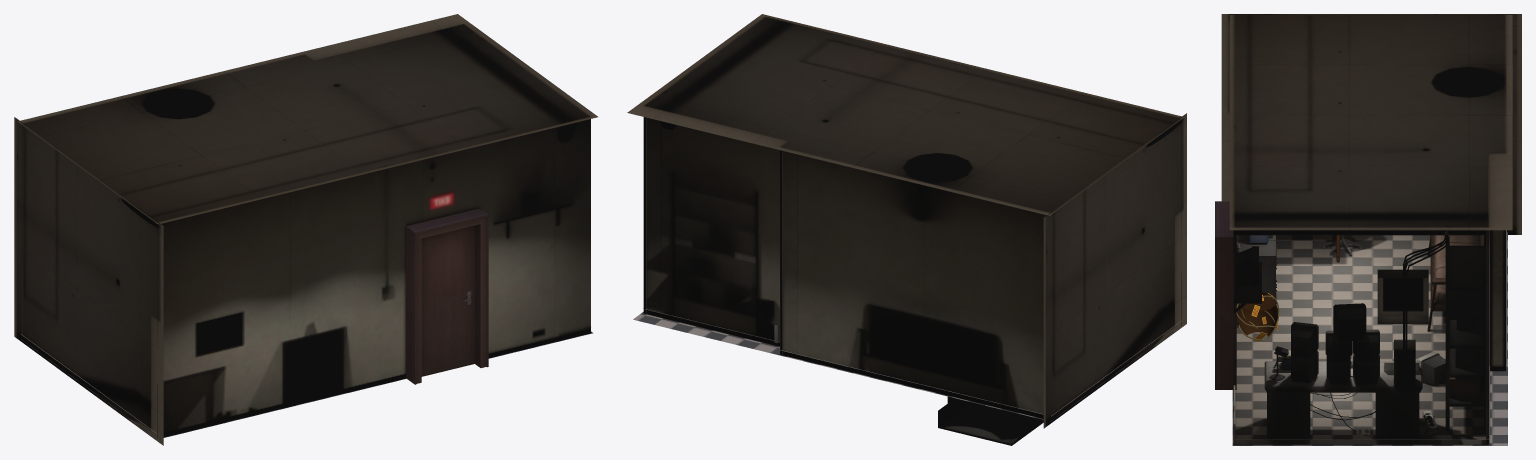
The model's file is room.glb.
3 renders of one model, left to right at view 1: azimuth 30°, elevation 25°; view 2: azimuth 150°, elevation 25°; view 3: azimuth 270°, elevation 25°, orthographic. The views are drawn at different scales.
Parts seen in each view (by area): view 1: wall exterior, door; view 2: wall exterior; view 3: wall exterior, table1, shelf, door, electric, sofa, pipe, pot5, wires, tv1, pc, tv6 (+10 smaller).
Boxes of the visible parts, box(x1,y1,x2,y2) form: wall exterior: box(14, 14, 597, 445); door: box(406, 208, 488, 384); wall exterior: box(627, 14, 1186, 445); wall exterior: box(1221, 14, 1521, 445); table1: box(1264, 361, 1422, 439); shelf: box(1445, 235, 1485, 430); door: box(1215, 201, 1236, 389); electric: box(1377, 269, 1428, 324); sofa: box(1427, 235, 1483, 331); pipe: box(1233, 230, 1485, 235); pot5: box(1236, 292, 1279, 341); wires: box(1301, 230, 1449, 437); tv1: box(1333, 303, 1366, 341); pc: box(1394, 339, 1415, 388); tv6: box(1291, 322, 1318, 357).
Size of the model in its own units: 6.64 by 3.68 by 3.98.
Materials: 45 (43 with a texture image).
